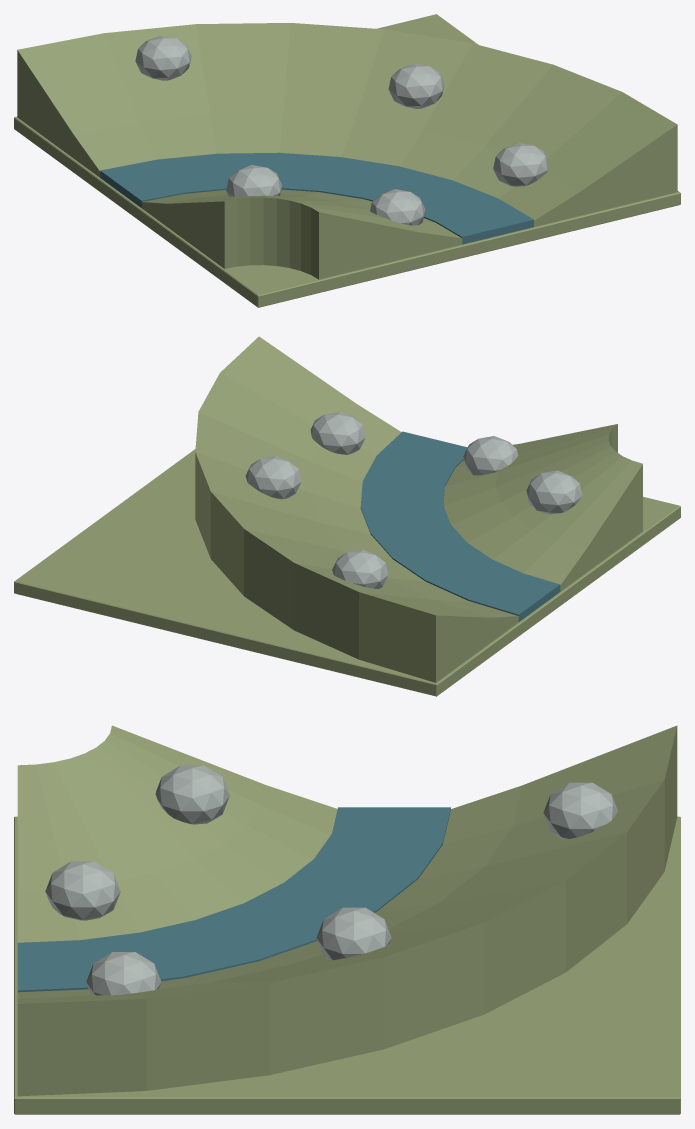
3 renders of one model, top to bottom at view 1: azimuth 30°, elevation 25°; view 2: azimuth 150°, elevation 25°; view 3: azimuth 270°, elevation 25°, orthographic. The views are drawn at different scales.
Visible parts, largest first — view 1: GroundAndNature, WaterSurface_Runtime; view 2: GroundAndNature, WaterSurface_Runtime; view 3: GroundAndNature, WaterSurface_Runtime.
Part boxes in pixels (x1,y1,x2,y2): GroundAndNature: (14, 14, 680, 307); WaterSurface_Runtime: (100, 152, 533, 244); GroundAndNature: (14, 336, 680, 696); WaterSurface_Runtime: (360, 431, 560, 621); GroundAndNature: (14, 725, 680, 1114); WaterSurface_Runtime: (17, 807, 450, 992).
Size of the model in its own units: 3.54 by 0.72 by 3.54.
